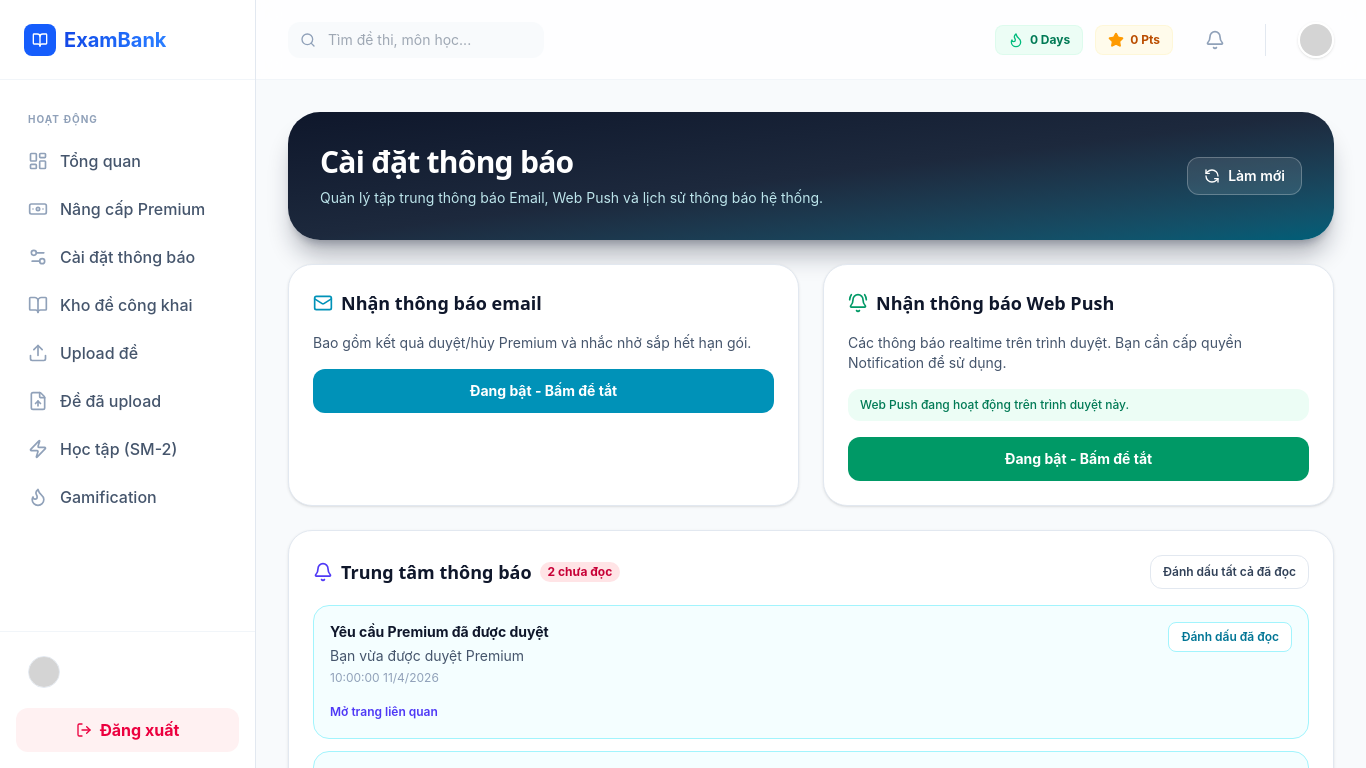
Test case: NotificationSettings page › marks all notifications as read and refreshes list
Expected: the text "2 chưa đọc" is shown, [540,562,620,582]
Click the button "Đánh dấu tất cả đã đọc": point(1230, 572) [1150,555,1309,589]
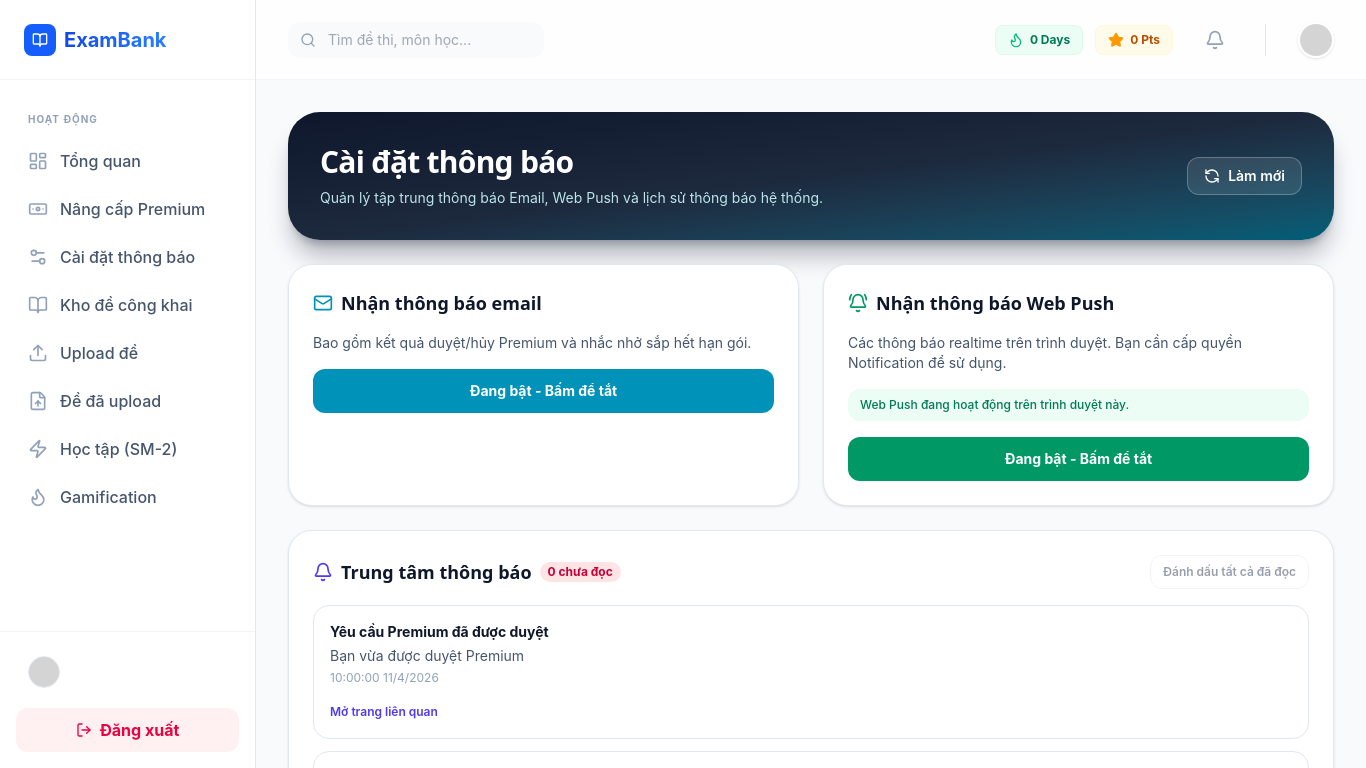
Now the text "0 chưa đọc" is shown, box [540,562,621,582]
